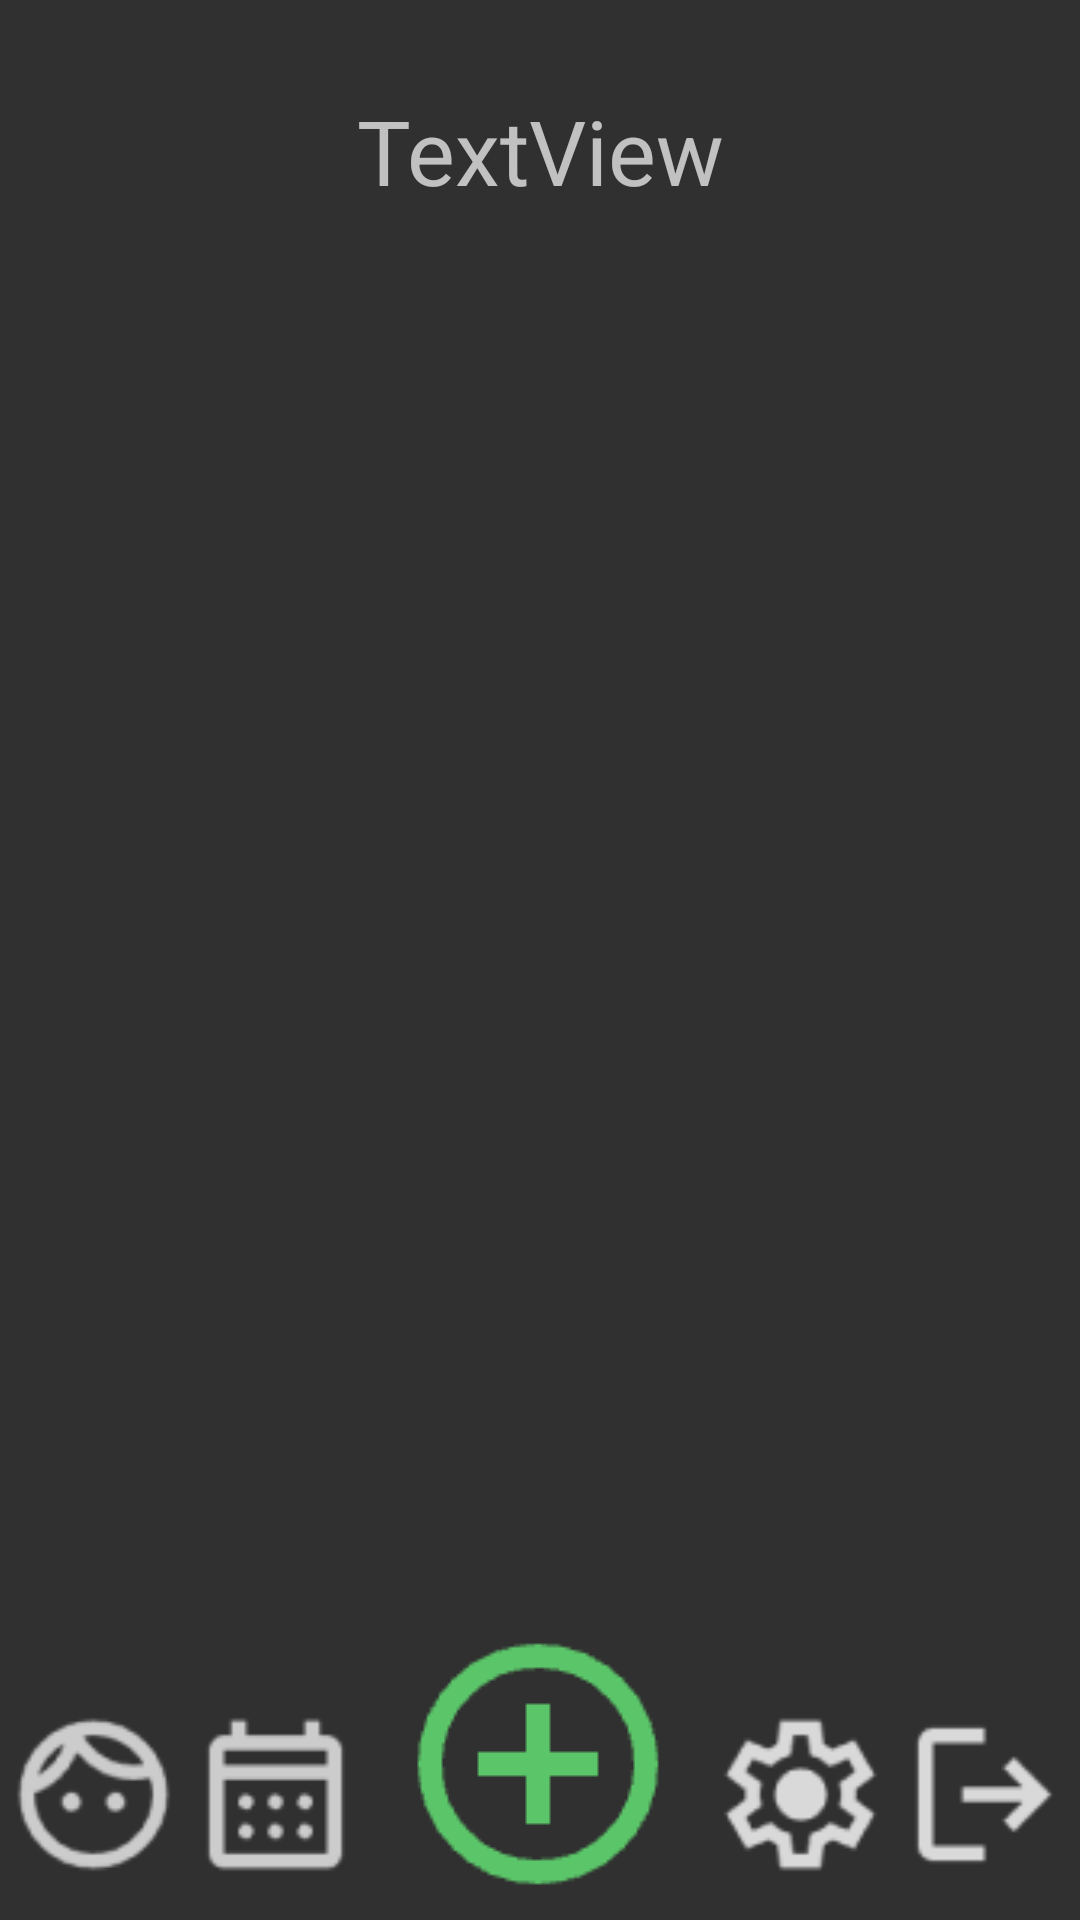

Icons on this 1080*1920 Android screen, each with the point to tap as point (x, y):
calendarphoto: point (275, 1794)
Log Out Button: point (984, 1794)
plusbutton: point (538, 1764)
profilephoto: point (93, 1794)
Settings Button: point (800, 1794)
